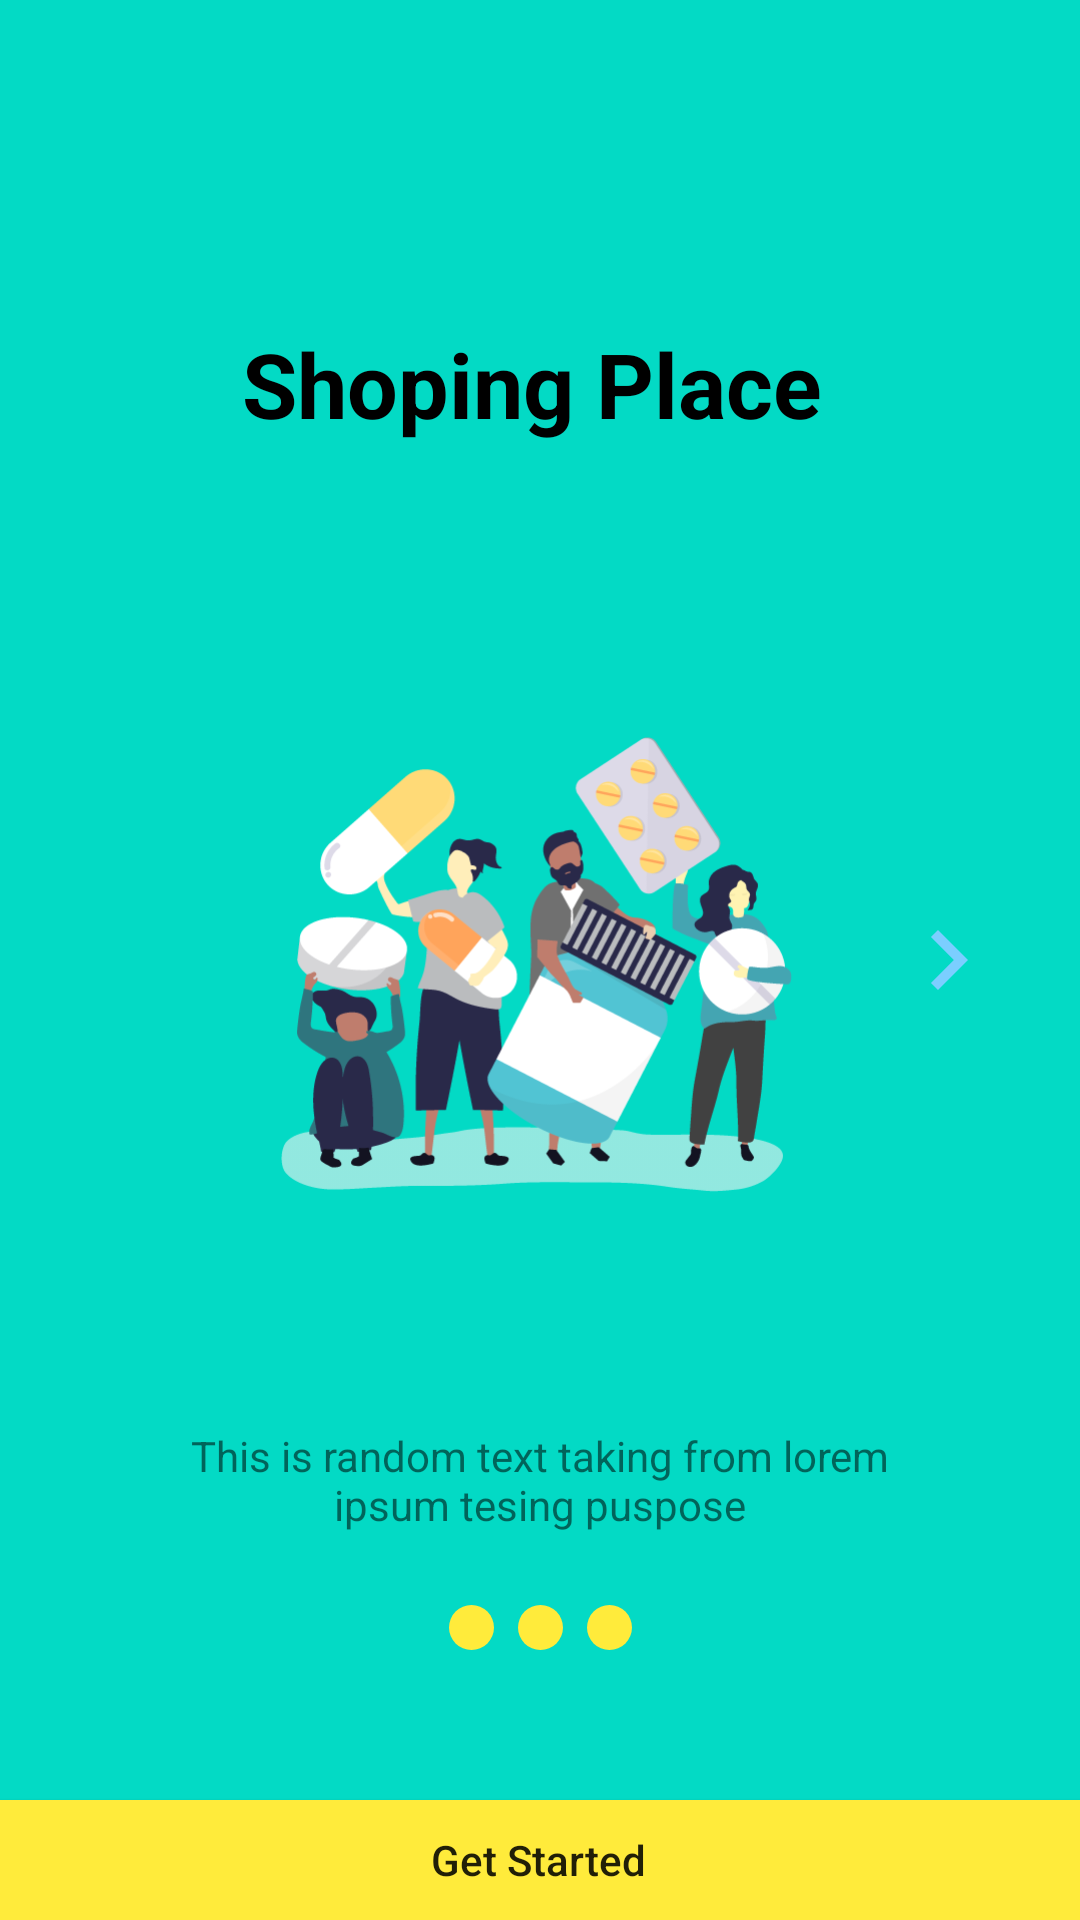

Named icons in this screenshot (1080px x 1920px) and their centers, [x,y]:
next: [949,960]
